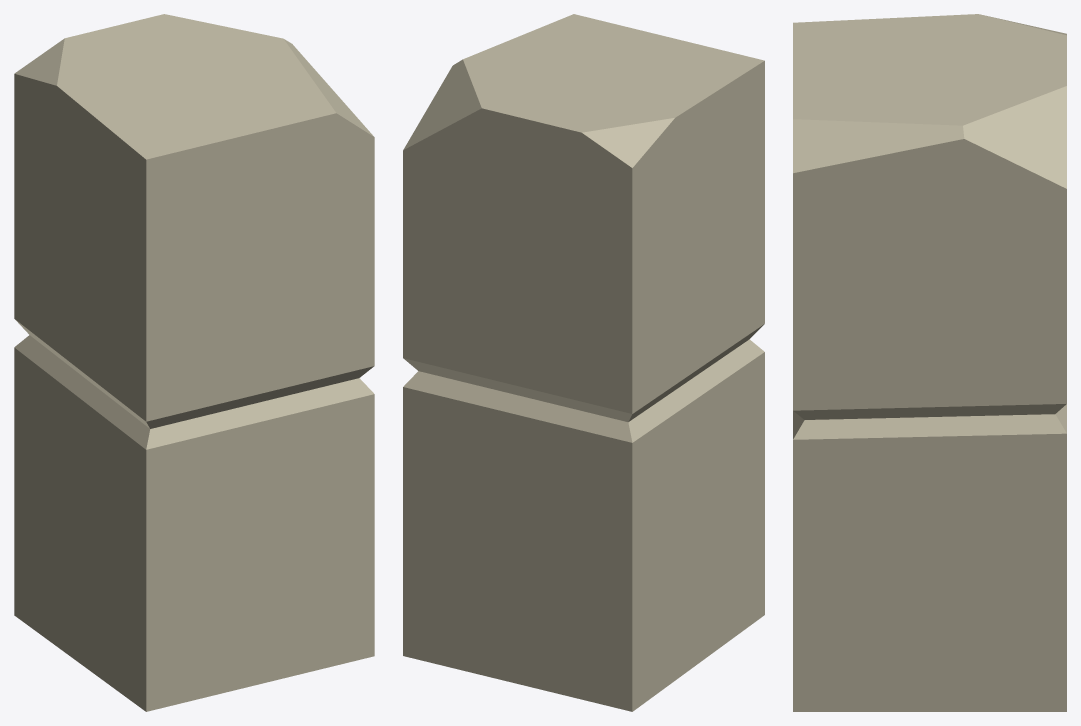
Rendered from Rock_Square_m_17.fbx.
3 views of the same model, side by side, from view 1: azimuth 30°, elevation 25°; view 2: azimuth 150°, elevation 25°; view 3: azimuth 270°, elevation 25° (orthographic). The views are drawn at different scales.
Visible parts, largest first — view 1: Rock_Square_m_17; view 2: Rock_Square_m_17; view 3: Rock_Square_m_17.
Part boxes in pixels (x1,y1,x2,y2): Rock_Square_m_17: (14, 14, 374, 711); Rock_Square_m_17: (403, 14, 764, 711); Rock_Square_m_17: (793, 14, 1066, 711).
Bounding box in the file's own units: 43.2 × 102 × 43.2.
